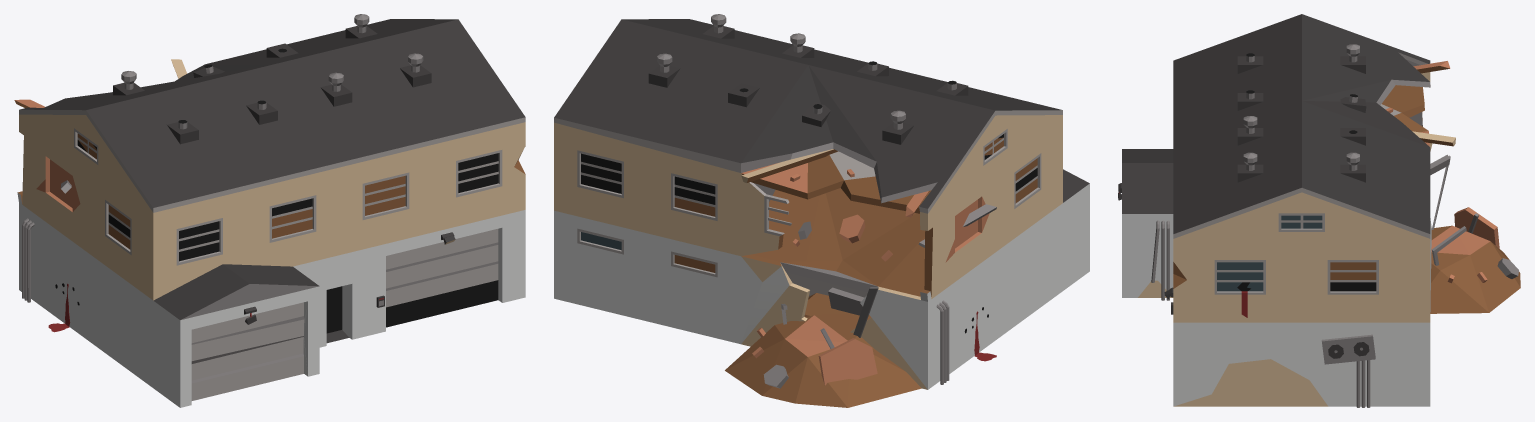
File: apocalypse_industry-building-apocalypse.fbx
The picture shows the model from 3 angles, left to right: view 1: azimuth 30°, elevation 25°; view 2: azimuth 150°, elevation 25°; view 3: azimuth 270°, elevation 25°; orthographic projection. The views are drawn at different scales.
Visible parts, largest first — view 1: apocalypse_industry_building_apocalypse; view 2: apocalypse_industry_building_apocalypse; view 3: apocalypse_industry_building_apocalypse.
Boxes of the visible parts, x1,y1,x2,y2 form: apocalypse_industry_building_apocalypse: (14,14,525,407); apocalypse_industry_building_apocalypse: (554,14,1089,407); apocalypse_industry_building_apocalypse: (1118,14,1520,407).
Bounding box in the file's own units: 200 × 112 × 185.
